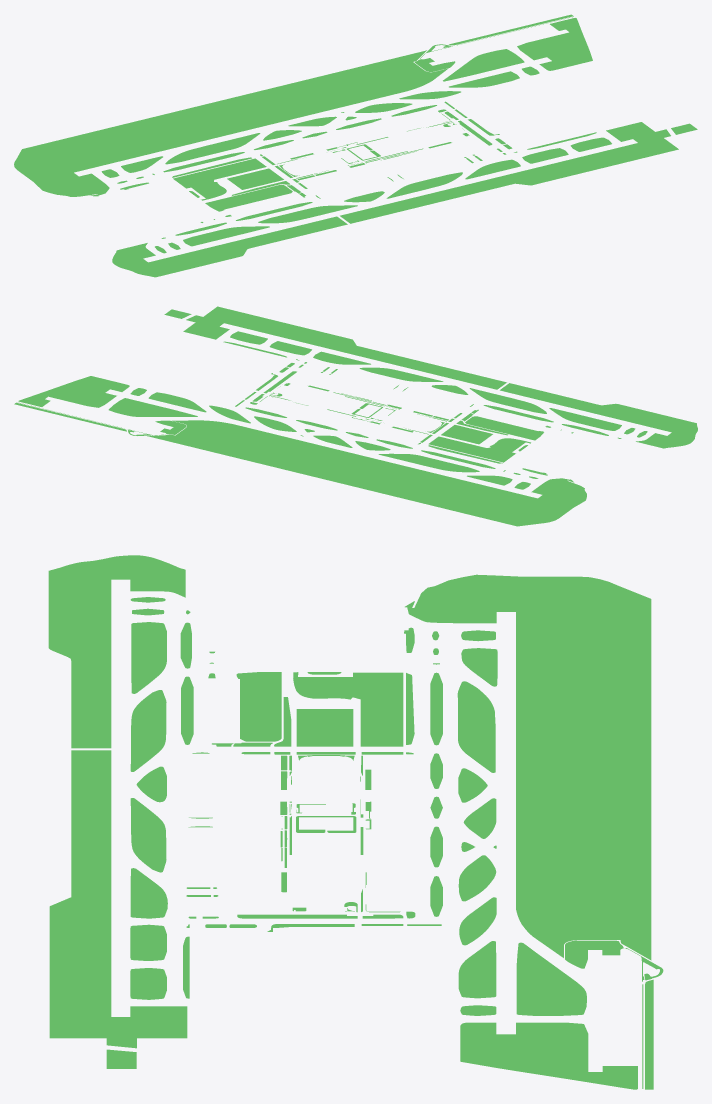
File: T12_grass.fbx
The picture shows the model from 3 angles, top to bottom: view 1: azimuth 30°, elevation 25°; view 2: azimuth 150°, elevation 25°; view 3: azimuth 270°, elevation 25°; orthographic projection. The views are drawn at different scales.
Visible parts, largest first — view 1: polySurface3415; view 2: polySurface3415; view 3: polySurface3415.
Part boxes in pixels (x1,y1,x2,y2): polySurface3415: [14, 14, 697, 277]; polySurface3415: [14, 306, 697, 526]; polySurface3415: [48, 555, 663, 1089].
Bounding box in the file's own units: 4927 × 0.2851 × 2395.
